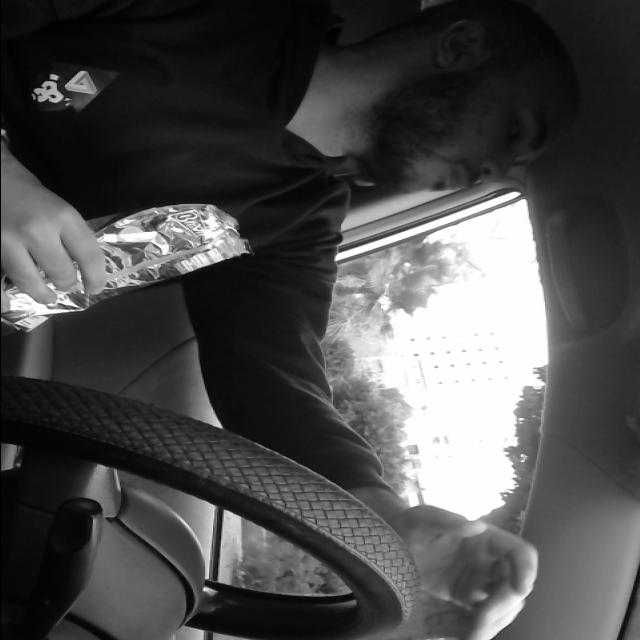eating: (0, 199, 254, 341)
